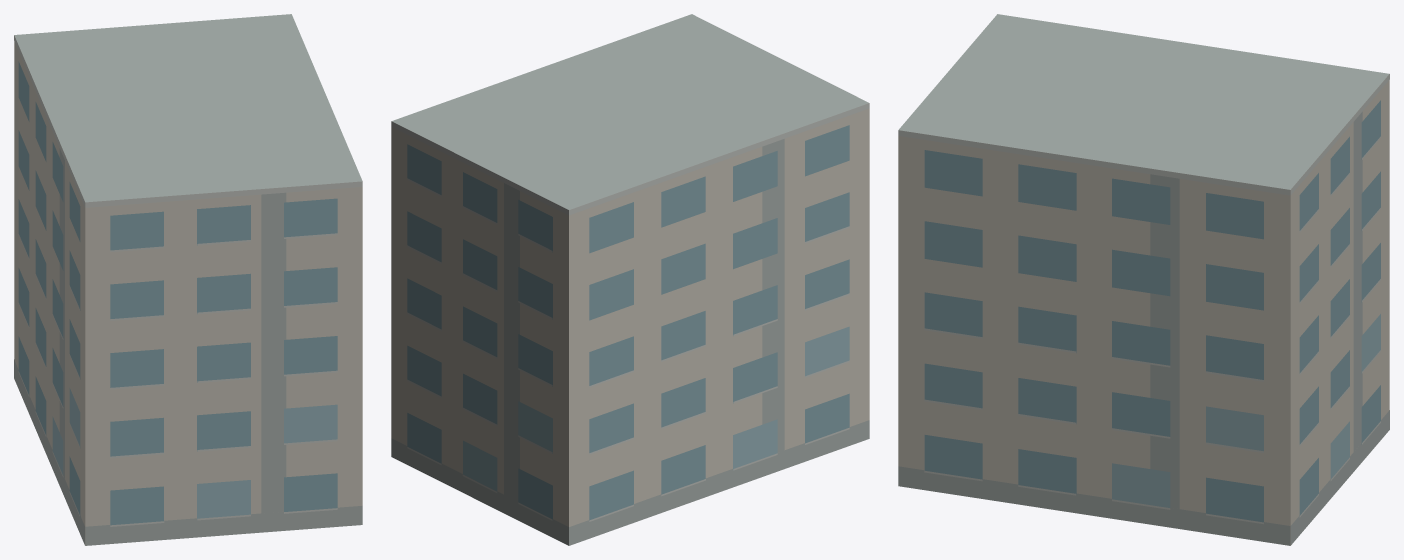
Rendered from residential-c06d0c37-1ab7-443b-9802-8c88cee8d764.glb.
The picture shows the model from 3 angles, left to right: view 1: azimuth 30°, elevation 25°; view 2: azimuth 150°, elevation 25°; view 3: azimuth 270°, elevation 25°; orthographic projection. The views are drawn at different scales.
Parts seen in each view (by area): view 1: residential-c06d0c37-1ab7-443b-9802-8c88cee8d764.tmp; view 2: residential-c06d0c37-1ab7-443b-9802-8c88cee8d764.tmp; view 3: residential-c06d0c37-1ab7-443b-9802-8c88cee8d764.tmp.
Boxes of the visible parts, x1,y1,x2,y2 form: residential-c06d0c37-1ab7-443b-9802-8c88cee8d764.tmp: (14, 14, 362, 545); residential-c06d0c37-1ab7-443b-9802-8c88cee8d764.tmp: (391, 14, 869, 545); residential-c06d0c37-1ab7-443b-9802-8c88cee8d764.tmp: (898, 14, 1389, 545).
Bounding box in the file's own units: 16.17 × 15.25 × 19.09.
